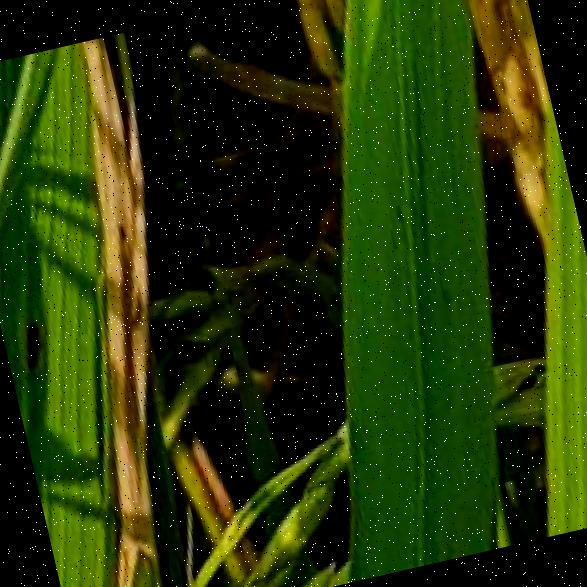Bacteria_Leaf_Blight: (32, 37, 213, 456)
